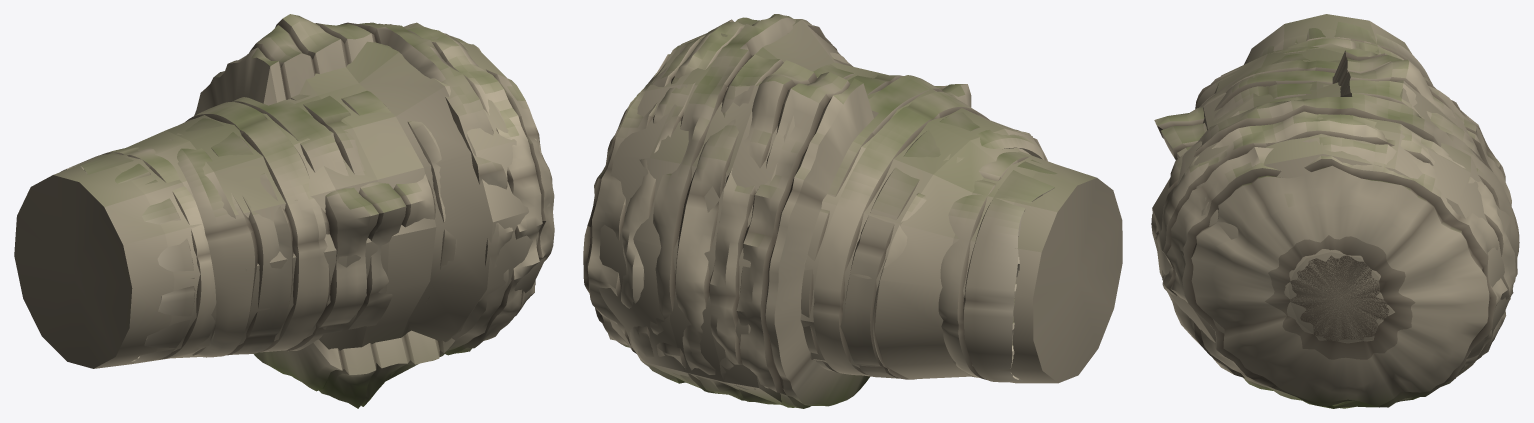
File: harbour_colossus_head.glb
The picture shows the model from 3 angles, left to right: view 1: azimuth 30°, elevation 25°; view 2: azimuth 150°, elevation 25°; view 3: azimuth 270°, elevation 25°; orthographic projection. The views are drawn at different scales.
Visible parts, largest first — view 1: harbour_colossus_head, harbour_colossus_head_far; view 2: harbour_colossus_head, harbour_colossus_head_far; view 3: harbour_colossus_head, harbour_colossus_head_far.
Part boxes in pixels (left/top/right/bottom): harbour_colossus_head: left=61, top=14, right=554, bottom=408; harbour_colossus_head_far: left=14, top=24, right=550, bottom=380; harbour_colossus_head: left=583, top=14, right=1057, bottom=408; harbour_colossus_head_far: left=598, top=19, right=1122, bottom=405; harbour_colossus_head: left=1151, top=22, right=1519, bottom=408; harbour_colossus_head_far: left=1152, top=14, right=1513, bottom=358.
Size of the model in its own units: 30.72 by 22.11 by 23.72.
